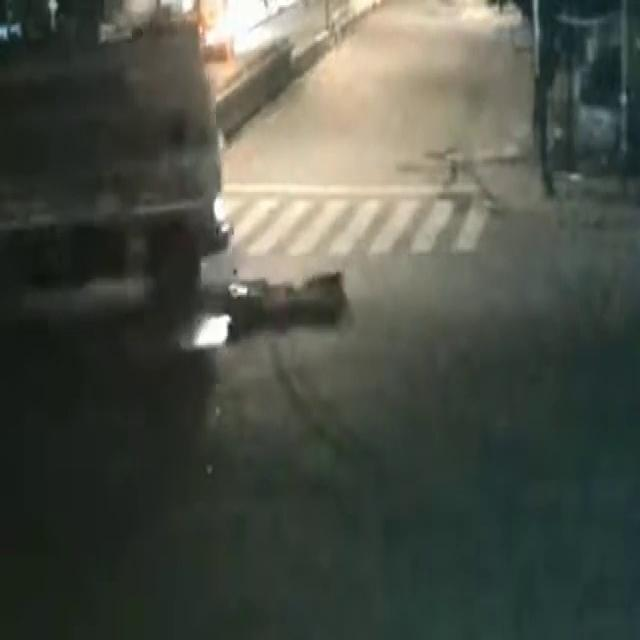accident: (0, 60, 354, 393)
